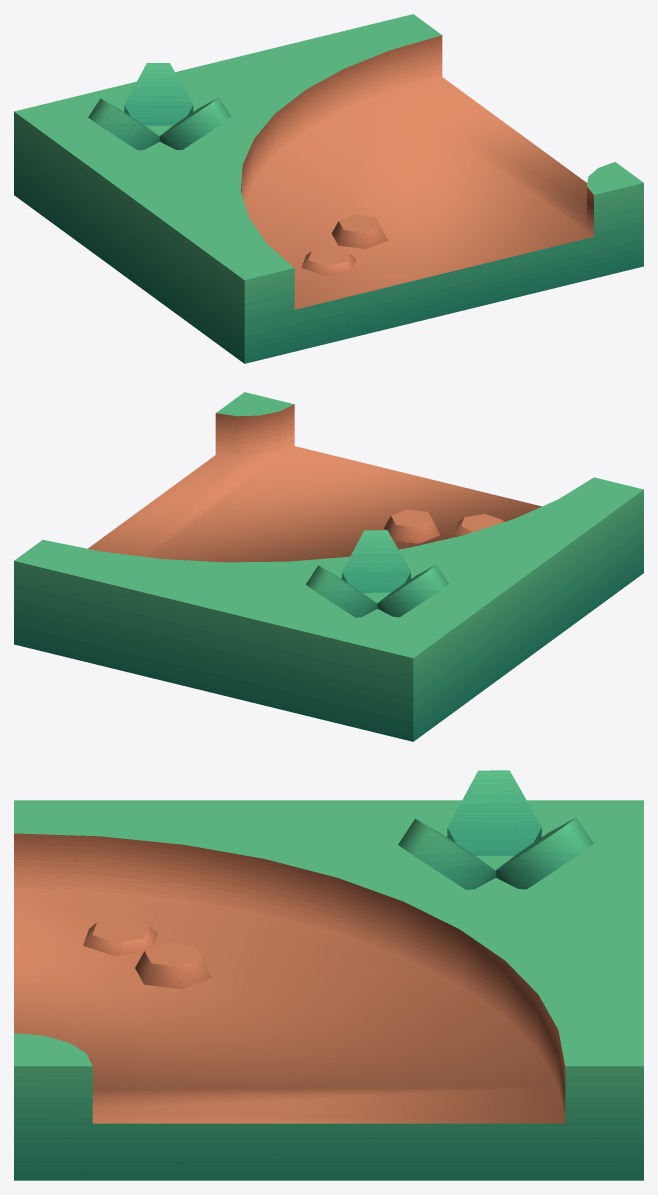
File: tile-corner-round.glb
The picture shows the model from 3 angles, top to bottom: view 1: azimuth 30°, elevation 25°; view 2: azimuth 150°, elevation 25°; view 3: azimuth 270°, elevation 25°; orthographic projection. The views are drawn at different scales.
Parts seen in each view (by area): view 1: tile-corner-round; view 2: tile-corner-round; view 3: tile-corner-round.
Boxes of the visible parts, box(x1,y1,x2,y2) form: tile-corner-round: box(14, 14, 643, 363); tile-corner-round: box(14, 392, 643, 741); tile-corner-round: box(14, 770, 643, 1180).
Size of the model in its own units: 1 by 0.2961 by 1.
1 material, 1 textured.
